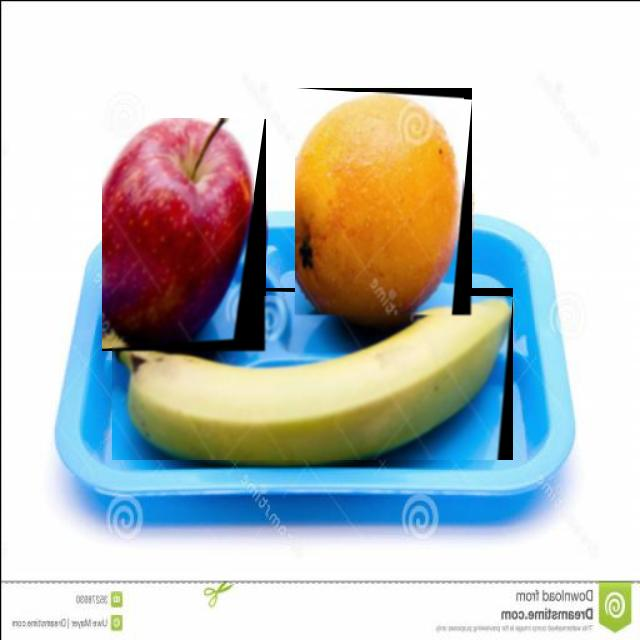1: (113, 296, 511, 460)
Apple: (102, 119, 254, 345)
Orange: (296, 93, 464, 314)
